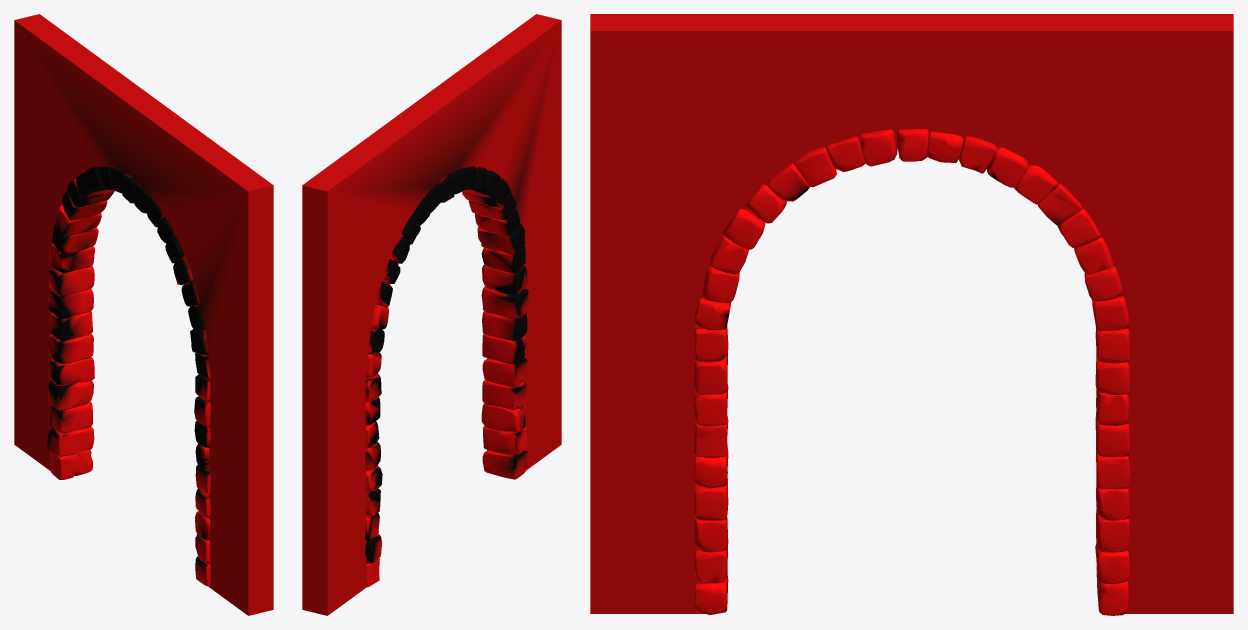
File: SM_ArchWall_Gate_Bricks_8x8_A.glb
3 renders of one model, left to right at view 1: azimuth 30°, elevation 25°; view 2: azimuth 150°, elevation 25°; view 3: azimuth 270°, elevation 25°, orthographic. The views are drawn at different scales.
Visible parts, largest first — view 1: SM_ArchWall_Gate_Bricks_8x8_A_LOD0; view 2: SM_ArchWall_Gate_Bricks_8x8_A_LOD0; view 3: SM_ArchWall_Gate_Bricks_8x8_A_LOD0.
Boxes of the visible parts, x1,y1,x2,y2 form: SM_ArchWall_Gate_Bricks_8x8_A_LOD0: (14, 14, 273, 615); SM_ArchWall_Gate_Bricks_8x8_A_LOD0: (302, 14, 561, 615); SM_ArchWall_Gate_Bricks_8x8_A_LOD0: (590, 14, 1233, 615).
Size of the model in its own units: 0.7444 by 8 by 8.
